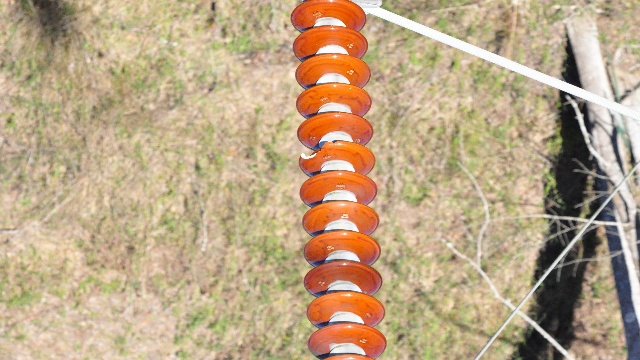broken_local: (299, 139, 339, 160)
insulator_unspecified: (291, 0, 390, 359)
